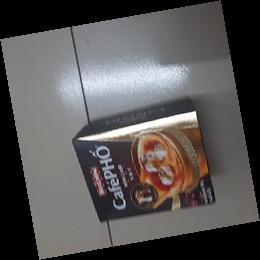CF pho: (69, 93, 218, 223)
